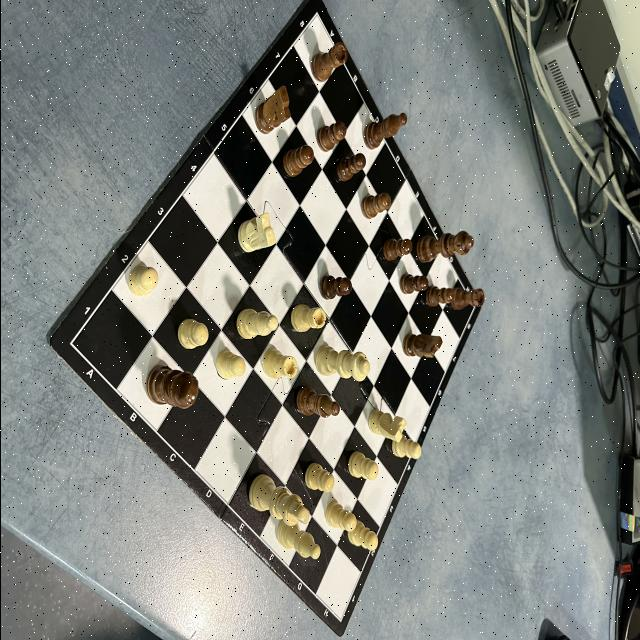Black-Bishop: (362, 112, 407, 150), (295, 387, 339, 419)
Black-King: (145, 366, 198, 410)
Black-Knight: (402, 333, 442, 359)
Black-Pawn: (282, 144, 314, 178), (316, 121, 346, 152), (335, 152, 365, 182), (319, 275, 351, 300), (360, 192, 390, 218), (382, 238, 412, 262), (424, 285, 454, 308), (398, 274, 428, 294)
Black-Queen: (415, 230, 473, 264)
Black-Rook: (310, 42, 348, 82), (450, 287, 484, 311)
White-Bishop: (276, 519, 320, 560), (235, 308, 278, 340)
White-King: (248, 476, 310, 526)
White-Knight: (254, 86, 290, 134), (237, 212, 274, 254), (367, 409, 405, 441)
White-Pawn: (346, 520, 378, 552), (176, 318, 208, 350), (128, 264, 158, 296), (325, 502, 356, 532), (348, 450, 378, 480), (304, 463, 334, 493), (214, 352, 244, 379), (390, 434, 420, 459)
White-Queen: (314, 346, 370, 382)
White-Rook: (290, 304, 326, 334), (261, 348, 297, 378)
